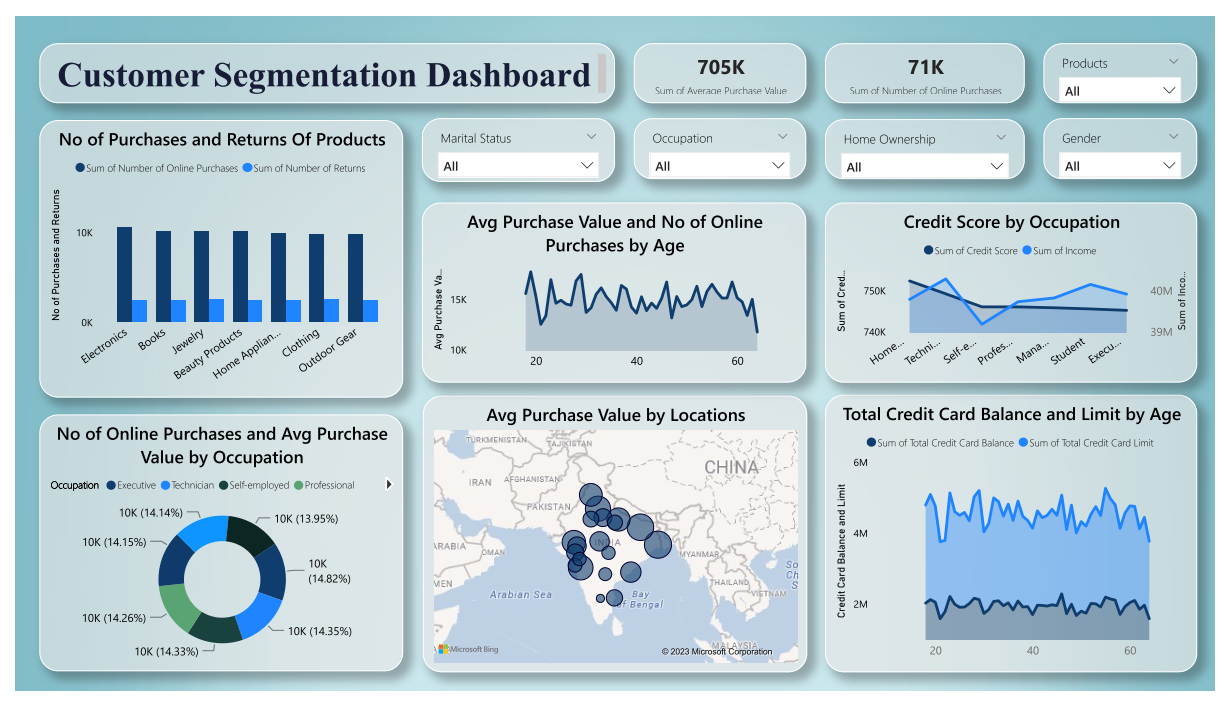

What the dashboard file says about the page in this screenshot:
{"tool":"powerbi","page":{"name":"Page 1","canvas":[1280,720],"ordinal":0},"visuals":[{"type":"textbox","box":[25.7,28.6,614.3,64.3],"z":0},{"type":"stackedAreaChart","title":"Total Credit Card Balance and Limit by Age","fields":{"Category":["Dataset.Age"],"Y":["Sum(Dataset.Total Credit Card Balance)","Sum(Dataset.Total Credit Card Limit)"]},"box":[864.3,404.3,397.1,295.7],"z":1000},{"type":"card","fields":{"Values":["Sum(Dataset.Average Purchase Value)"]},"box":[660,28.6,184.3,64.3],"z":2000},{"type":"card","fields":{"Values":["Sum(Dataset.Number of Online Purchases)"]},"box":[864.3,28.6,212.9,64.3],"z":3000},{"type":"clusteredColumnChart","title":"No of Purchases and Returns Of Products","fields":{"Category":["Dataset.Products Purchased"],"Y":["Sum(Dataset.Number of Online Purchases)","Sum(Dataset.Number of Returns)"]},"box":[26.1,110.8,387.7,296.5],"z":4000},{"type":"map","title":"Avg Purchase Value by Locations","fields":{"Size":["Sum(Dataset.Average Purchase Value)"],"Category":["Dataset.Locations"]},"box":[435,405,410,295],"z":5000},{"type":"slicer","fields":{"Values":["Dataset.Products Purchased"]},"box":[1097.1,28.6,164.3,64.3],"z":6000},{"type":"stackedAreaChart","title":"Avg Purchase Value and No of Online Purchases by Age","fields":{"Category":["Dataset.Age"],"Y":["Sum(Dataset.Average Purchase Value)"]},"box":[434.3,198.6,410,192.9],"z":7000},{"type":"donutChart","title":"No of Online Purchases and Avg Purchase Value by Occupation","fields":{"Category":["Dataset.Occupation"],"Y":["Sum(Dataset.Number of Online Purchases)"]},"box":[26.2,425.2,388.2,274.2],"z":8000},{"type":"slicer","fields":{"Values":["Dataset.Gender"]},"box":[1097.1,108.6,164.3,65.7],"z":9000},{"type":"slicer","fields":{"Values":["Dataset.Occupation"]},"box":[660,108.6,184.3,65.7],"z":10000},{"type":"areaChart","title":"Credit Score by Occupation","fields":{"Category":["Dataset.Occupation"],"Y":["Sum(Dataset.Credit Score)"],"Y2":["Sum(Dataset.Income)"]},"box":[864.3,198.6,397.1,192.9],"z":11000},{"type":"slicer","fields":{"Values":["Dataset.Marital Status"]},"box":[434.3,108.6,205.7,68.6],"z":12000},{"type":"slicer","fields":{"Values":["Dataset.Home Ownership"]},"box":[864.3,110,212.9,64.3],"z":13000}]}

Visuals, with their boxes in screenshot pixels (x1, y1, x2, y2), scaled from the page's 1280x720 canvas onto the 1227x704 screenshot:
textbox: 25/28/614/91
"Total Credit Card Balance and Limit by Age" stackedAreaChart: 829/395/1209/684
card - Sum(Dataset.Average Purchase Value): 633/28/809/91
card - Sum(Dataset.Number of Online Purchases): 829/28/1033/91
"No of Purchases and Returns Of Products" clusteredColumnChart: 25/108/397/398
"Avg Purchase Value by Locations" map: 417/396/810/684
slicer - Dataset.Products Purchased: 1052/28/1209/91
"Avg Purchase Value and No of Online Purchases by Age" stackedAreaChart: 416/194/809/383
"No of Online Purchases and Avg Purchase Value by Occupation" donutChart: 25/416/397/684
slicer - Dataset.Gender: 1052/106/1209/170
slicer - Dataset.Occupation: 633/106/809/170
"Credit Score by Occupation" areaChart: 829/194/1209/383
slicer - Dataset.Marital Status: 416/106/614/173
slicer - Dataset.Home Ownership: 829/108/1033/170
